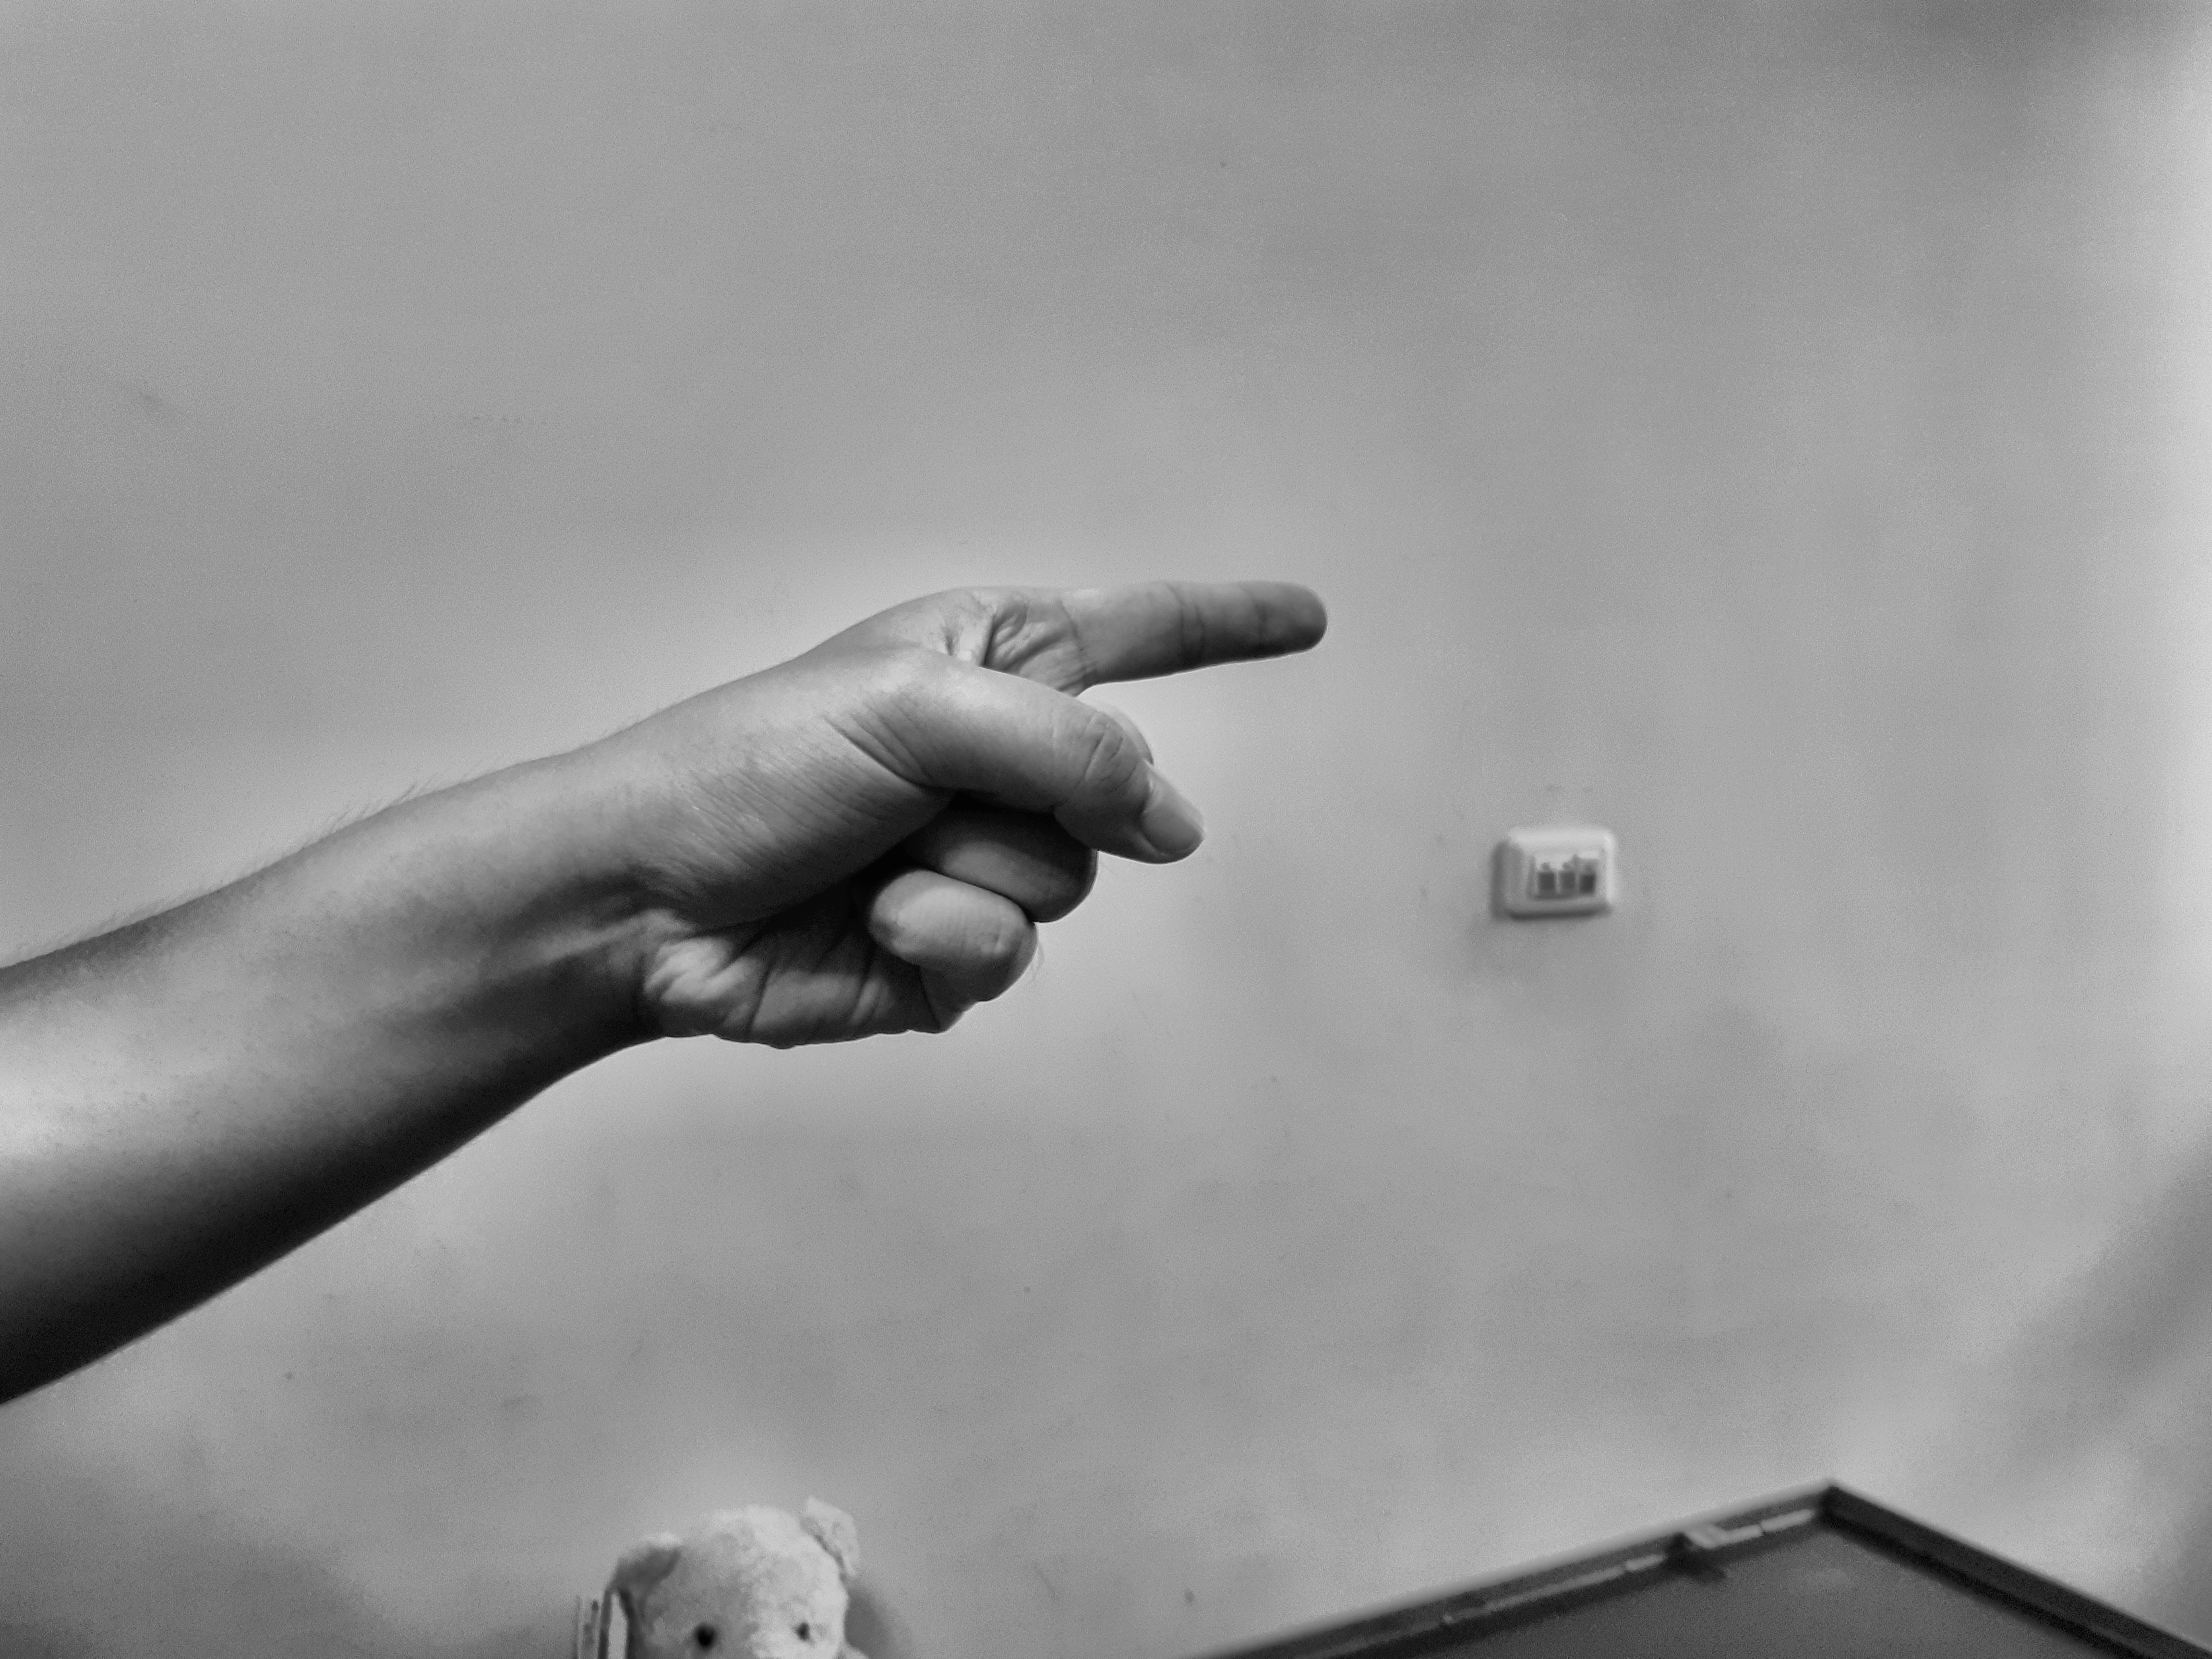right: (542, 551, 1385, 1072)
